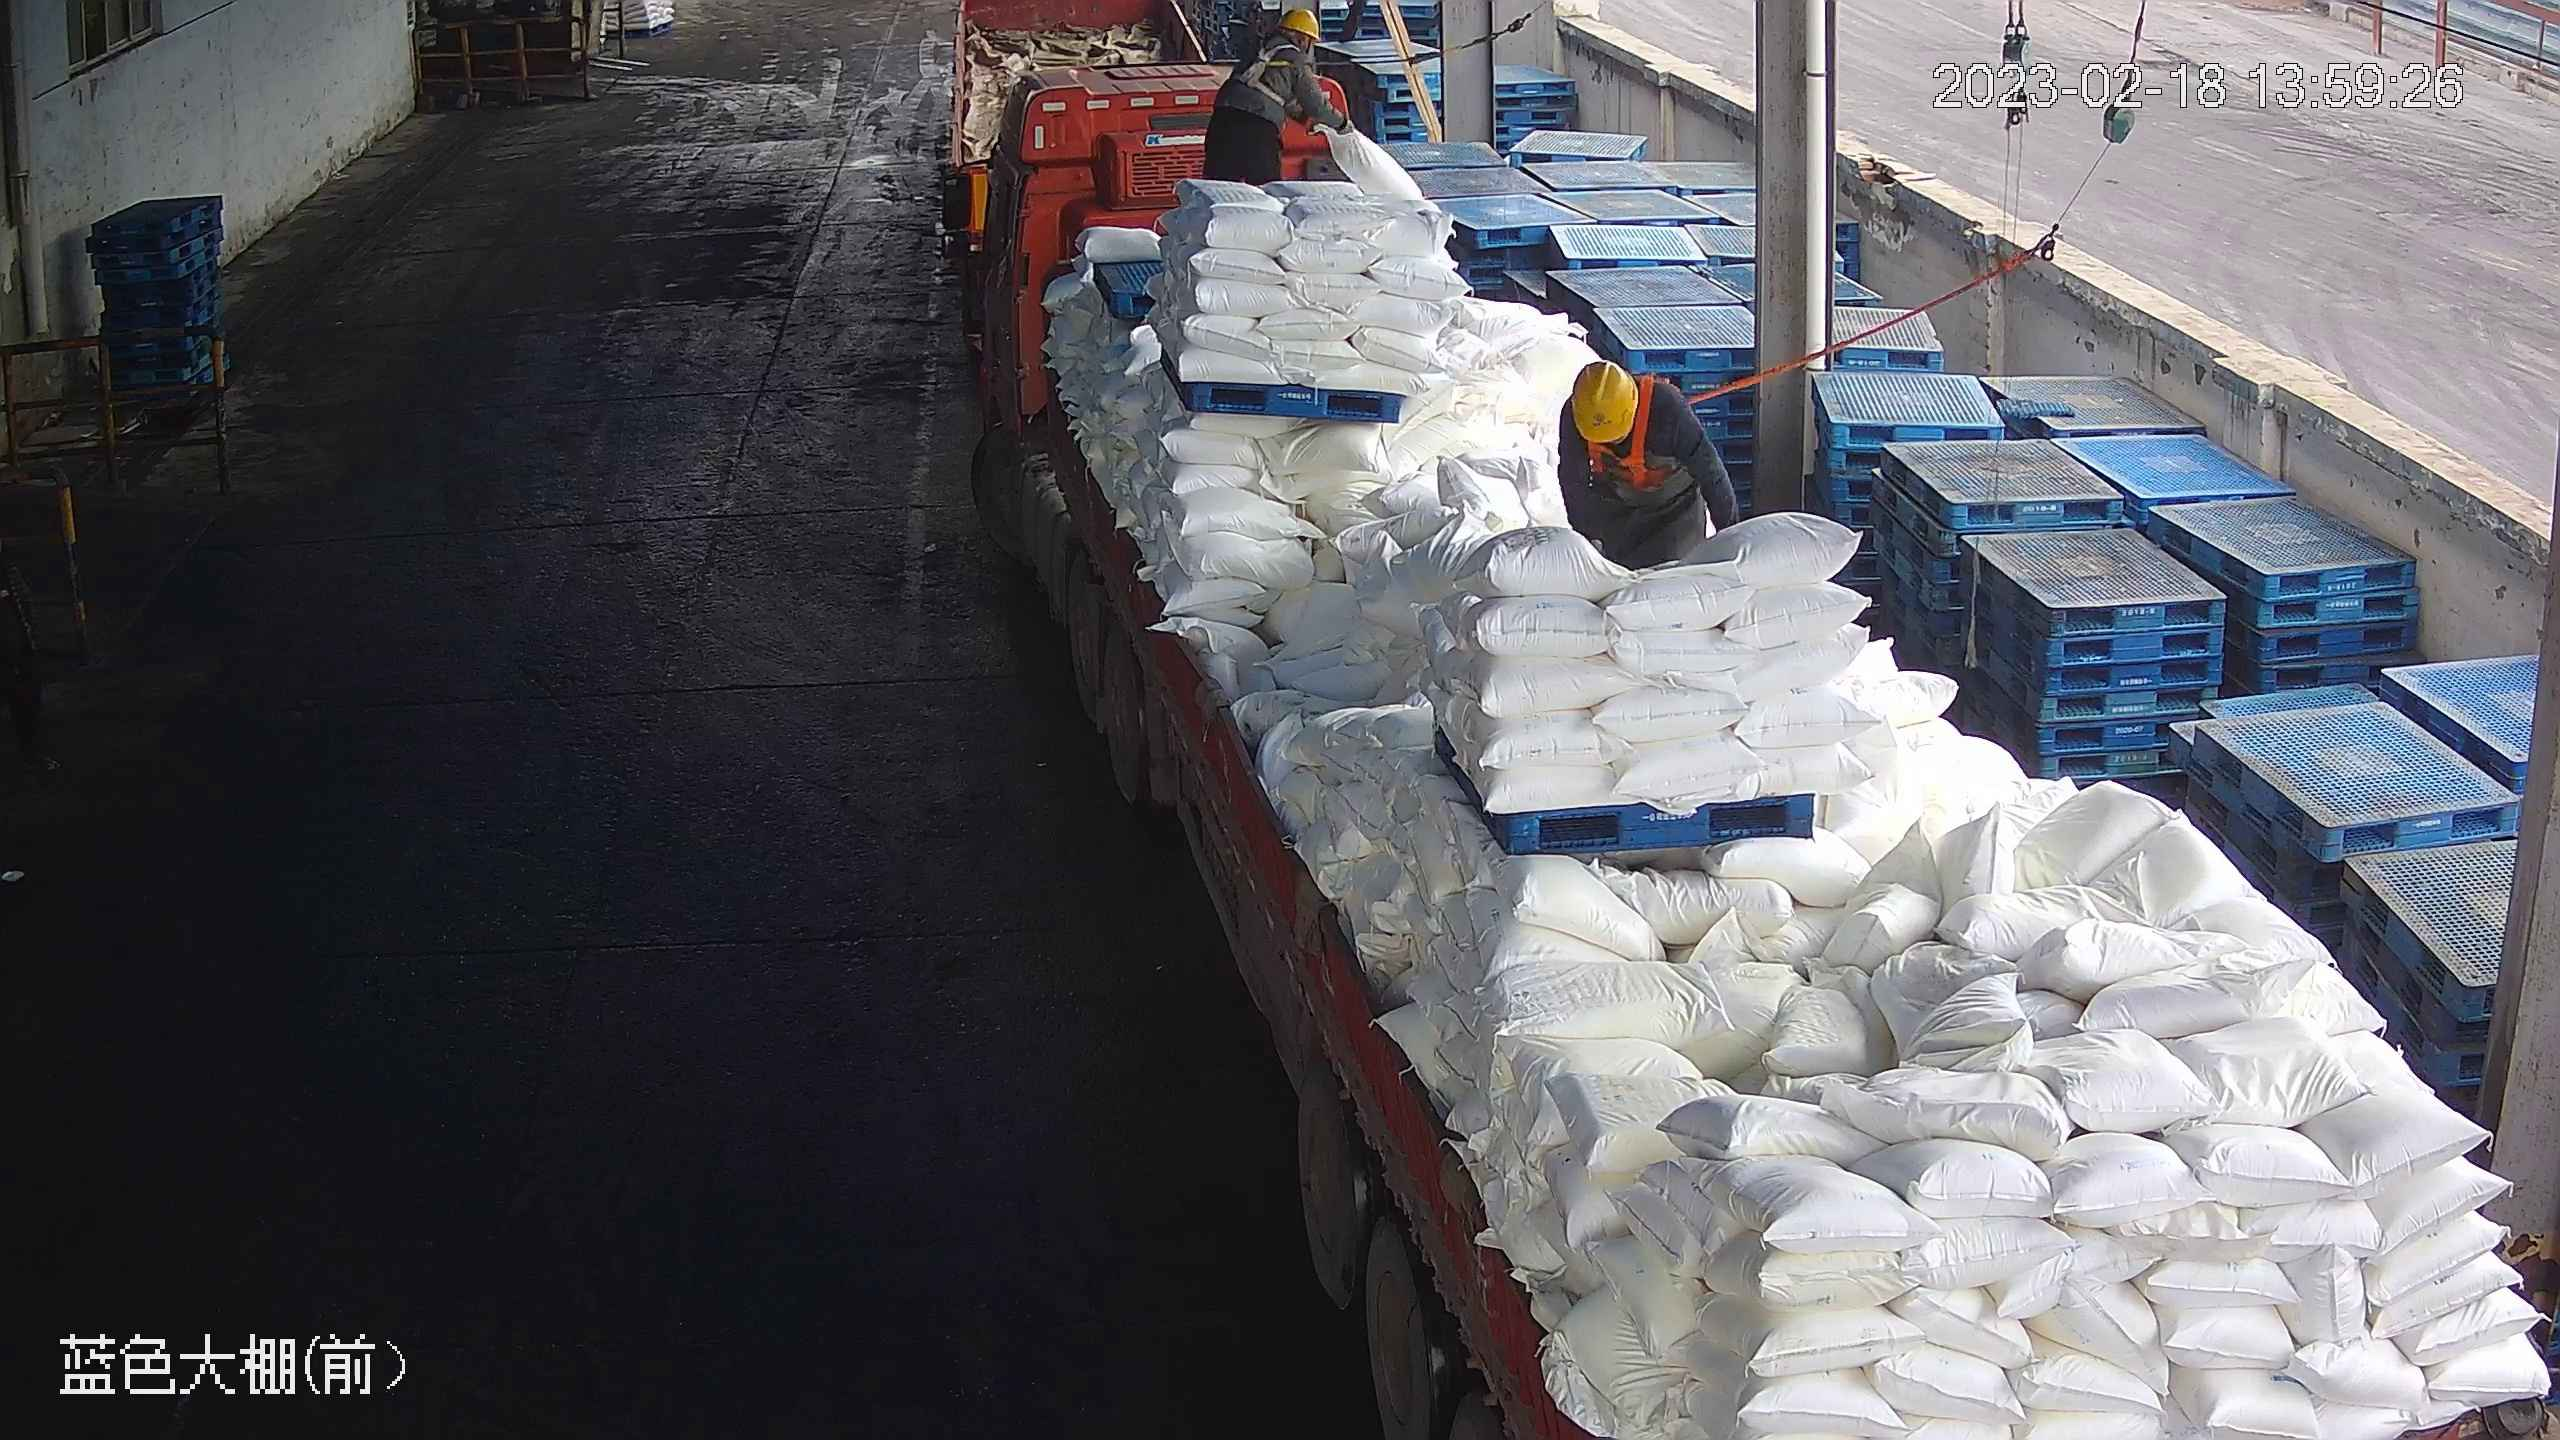belt: (1593, 368, 1688, 488), (1226, 44, 1298, 109)
head: (1559, 357, 1704, 464), (1235, 8, 1330, 82)
helmet: (1571, 359, 1641, 443), (1276, 6, 1323, 42)
people: (1551, 354, 1744, 578), (1200, 7, 1352, 187)
truck: (937, 62, 2555, 1440)
